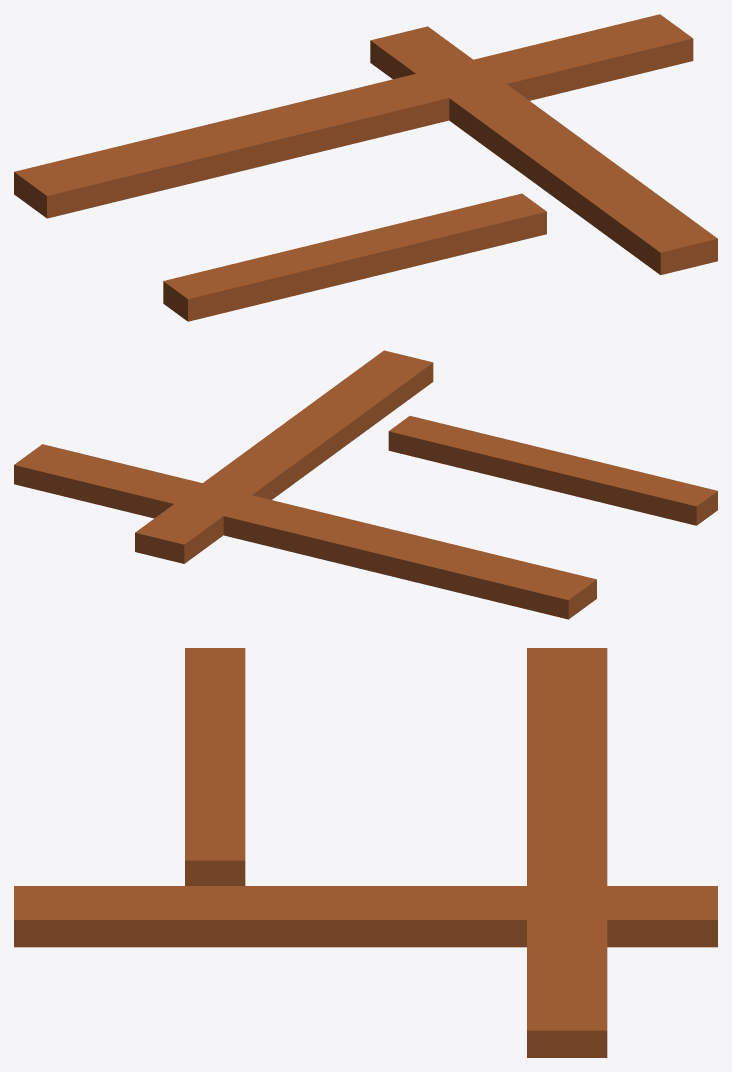
File: crack.c1567410.glb
3 renders of one model, top to bottom at view 1: azimuth 30°, elevation 25°; view 2: azimuth 150°, elevation 25°; view 3: azimuth 270°, elevation 25°, orthographic. The views are drawn at different scales.
Visible parts, largest first — view 1: body; view 2: body; view 3: body.
Boxes of the visible parts, left/top/right/bottom form: body: left=14, top=14, right=717, bottom=321; body: left=14, top=350, right=717, bottom=619; body: left=14, top=648, right=717, bottom=1057.
Bounding box in the file's own units: 0.9 × 0.03 × 0.7.
